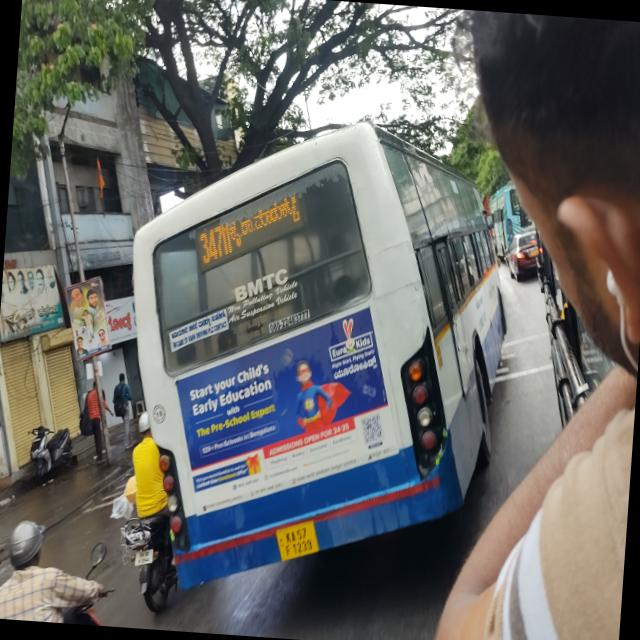bus: (102, 103, 528, 608)
display: (186, 180, 307, 272)
dnumber: (196, 216, 234, 265)
